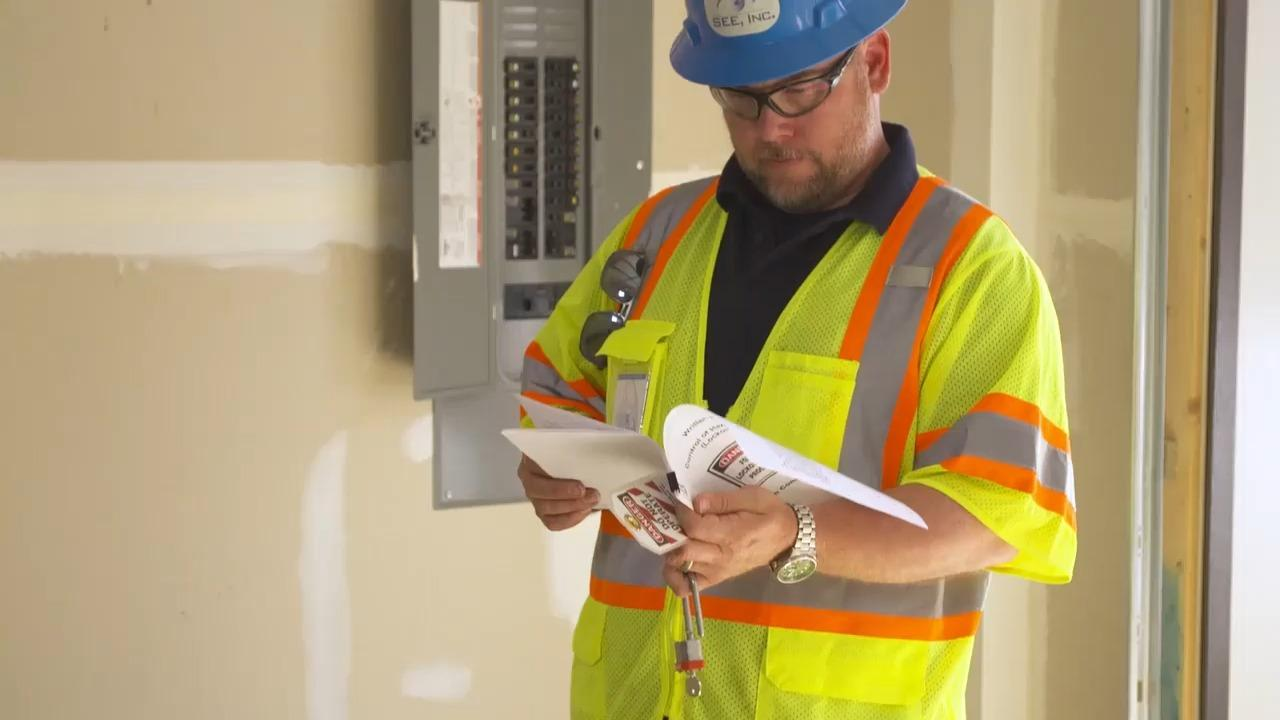Helmet: (659, 0, 897, 92)
Person: (543, 0, 1062, 719)
Safety Vest: (600, 212, 955, 720)
bare-arms: (668, 481, 800, 609), (508, 444, 580, 557)
